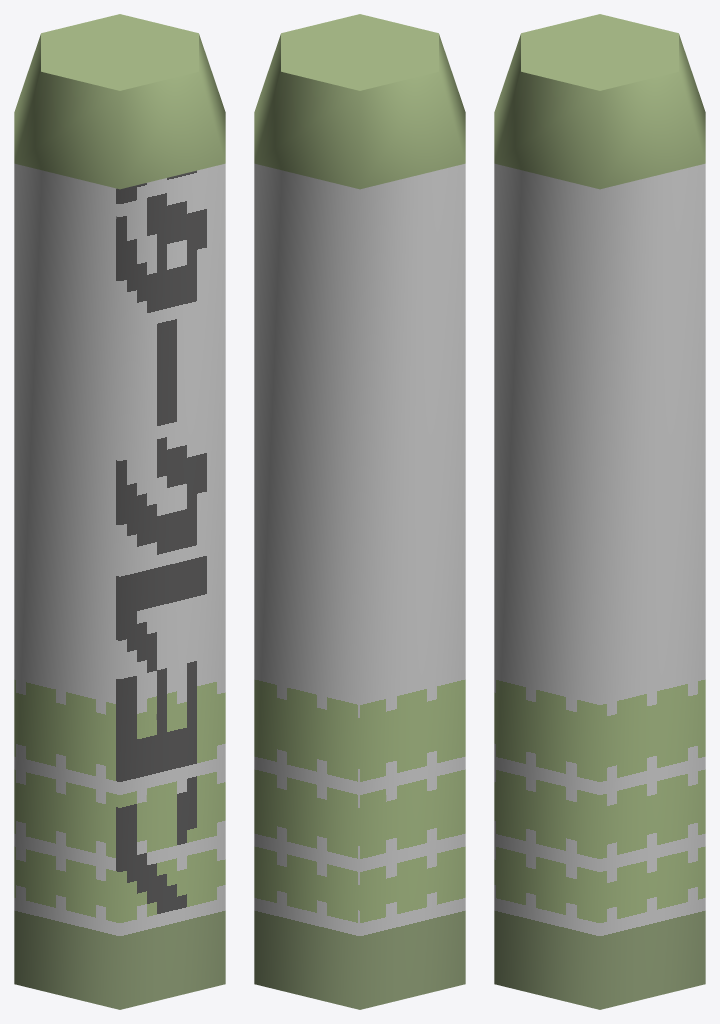
File: 0330_Lime_Crayon.glb
The picture shows the model from 3 angles, left to right: view 1: azimuth 30°, elevation 25°; view 2: azimuth 150°, elevation 25°; view 3: azimuth 270°, elevation 25°; orthographic projection.
Parts seen in each view (by area): view 1: part_0; view 2: part_0; view 3: part_0.
Boxes of the visible parts, left/top/right/bottom form: part_0: left=14, top=14, right=225, bottom=1009; part_0: left=254, top=14, right=465, bottom=1009; part_0: left=494, top=14, right=705, bottom=1009.
Size of the model in its own units: 0.014 by 0.0574 by 0.0121.
Materials: 1 (1 with a texture image).
